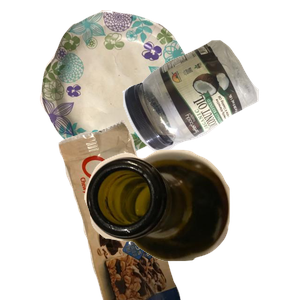glass: (82, 147, 300, 300)
paper: (37, 10, 219, 167)
plastic: (120, 37, 300, 185)
trash: (56, 120, 229, 300)
